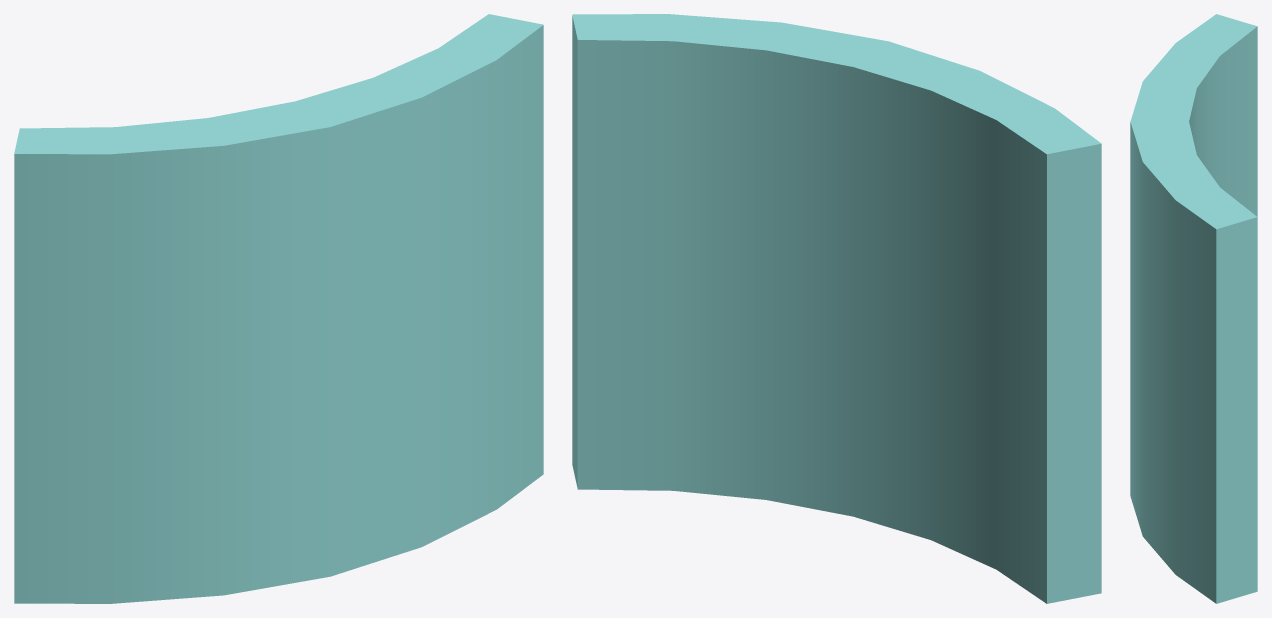
The model's file is Entrada puerta.fbx.
The picture shows the model from 3 angles, left to right: view 1: azimuth 30°, elevation 25°; view 2: azimuth 150°, elevation 25°; view 3: azimuth 270°, elevation 25°; orthographic projection. The views are drawn at different scales.
Parts seen in each view (by area): view 1: Puerta; view 2: Puerta; view 3: Puerta.
Part boxes in pixels (x1,y1,x2,y2): Puerta: [14, 14, 543, 603]; Puerta: [572, 14, 1101, 603]; Puerta: [1130, 14, 1257, 603].
Size of the model in its own units: 703 by 570 by 175.
